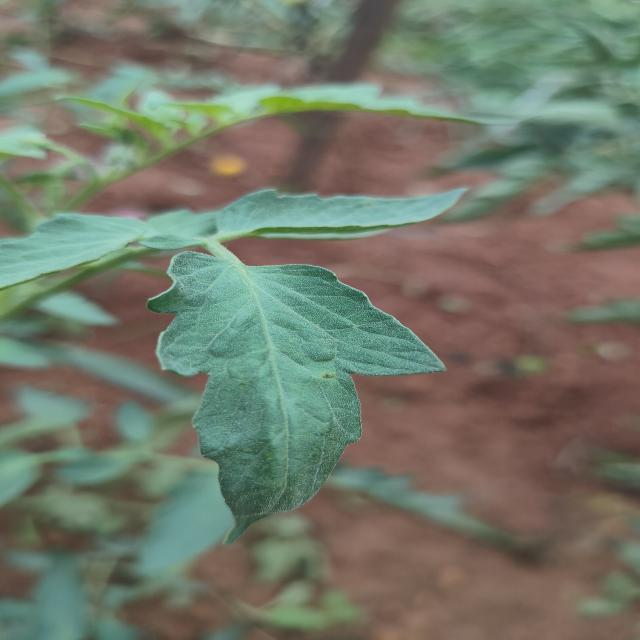tomato_healthy: (147, 244, 444, 540), (210, 188, 465, 242), (0, 214, 152, 288)
